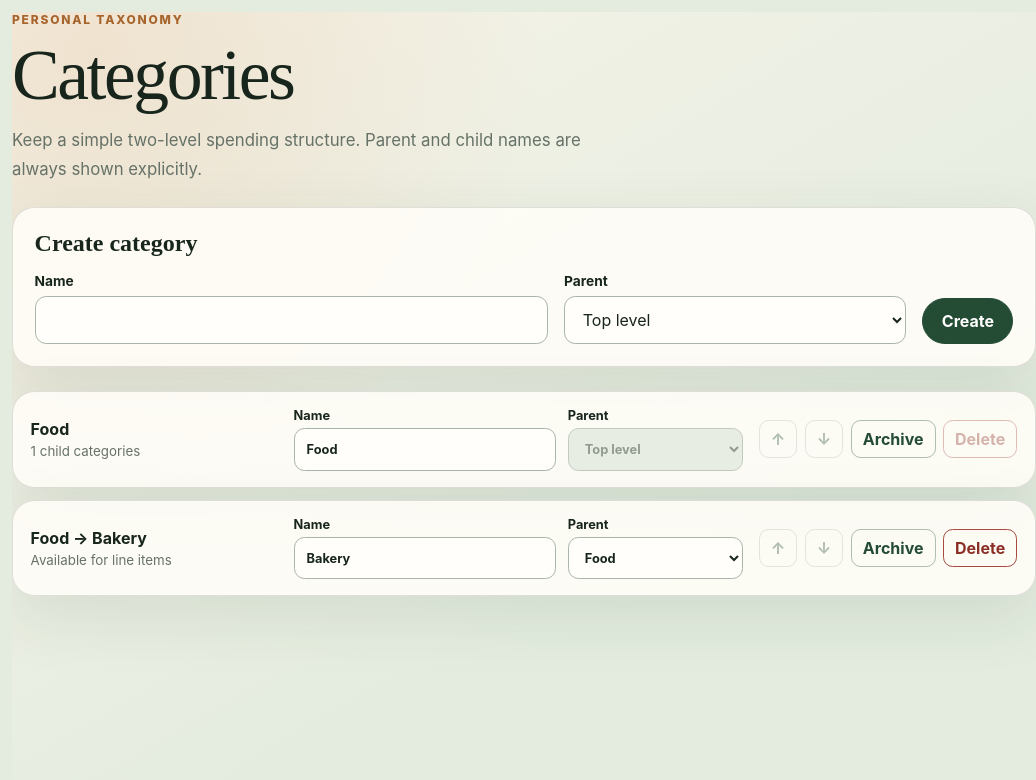
Test: category controls › creates a child and reloads without losing the management state
Expected: the text "Food → Bakery" is shown, [31,528,147,548]
In the field labelled "Name" below "Create category": (291, 320) [35,296,548,344], type "Produce"
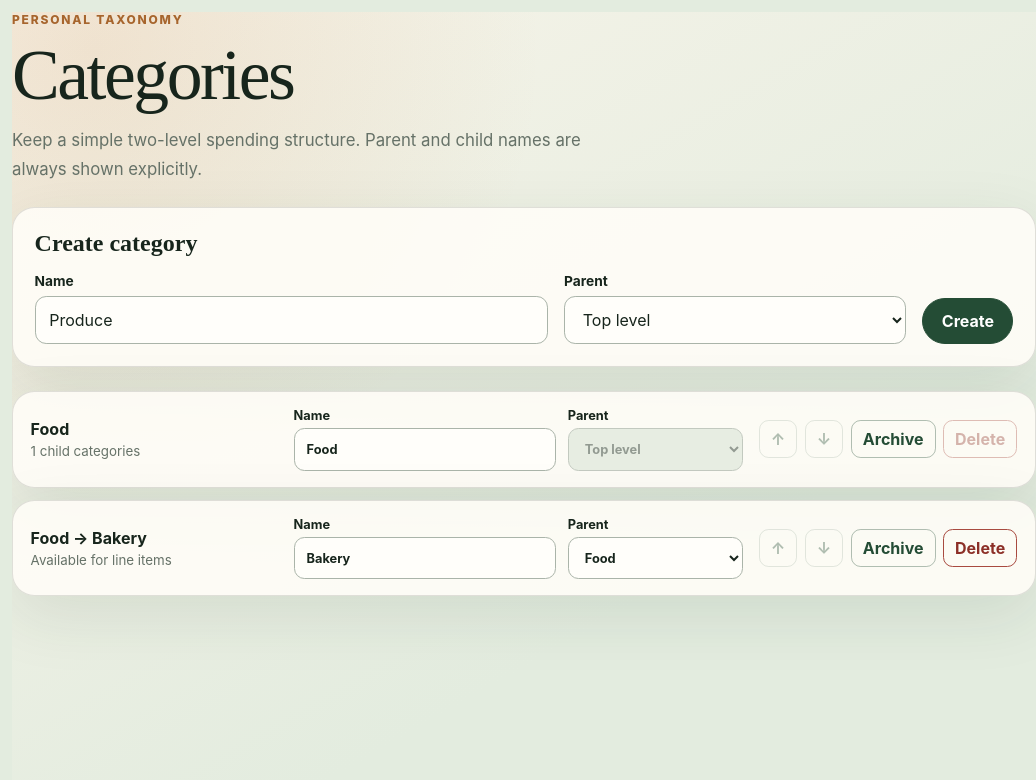
Select "Food" in the 1st dropdown labelled "Parent": (735, 320) [564,296,906,344]
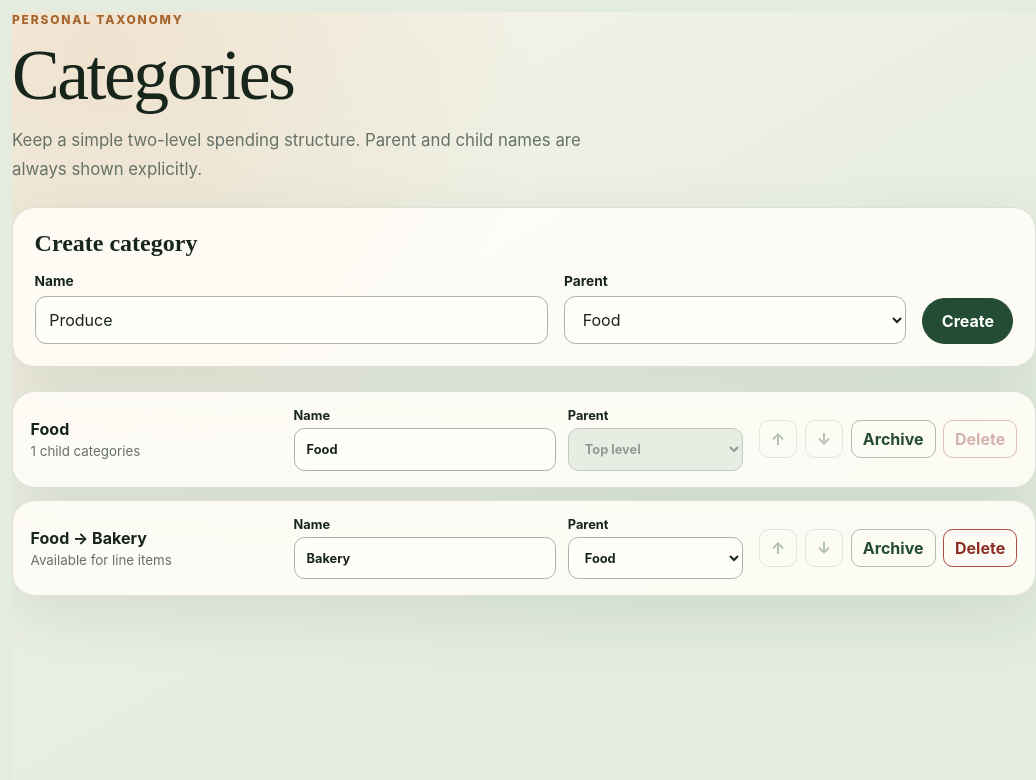
Click the button "Create": (968, 321) [922,298,1014,344]
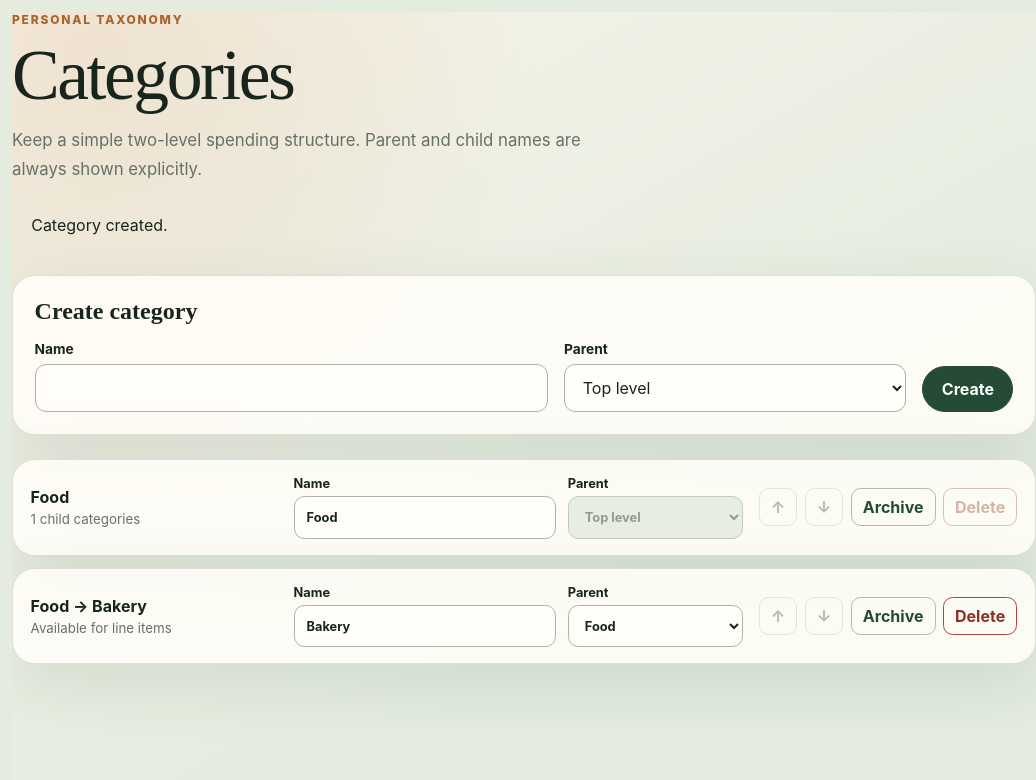
Now the text "Category created." is shown, box [31,215,168,235]
